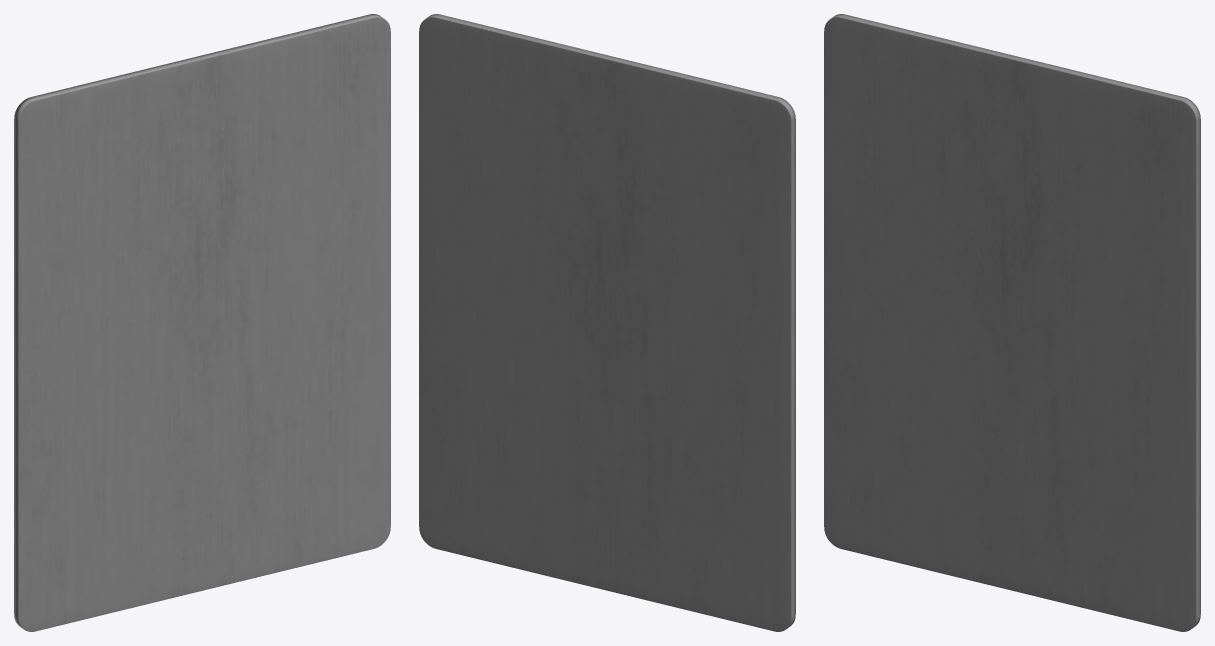
File: card.glb
3 renders of one model, left to right at view 1: azimuth 30°, elevation 25°; view 2: azimuth 150°, elevation 25°; view 3: azimuth 330°, elevation 25°, orthographic.
Parts seen in each view (by area): view 1: Cube; view 2: Cube; view 3: Cube.
Part boxes in pixels (x1,y1,x2,y2): Cube: [14, 14, 390, 631]; Cube: [419, 14, 795, 631]; Cube: [824, 14, 1200, 631].
Size of the model in its own units: 0.22 by 0.3 by 0.005.
1 material, 1 textured.
